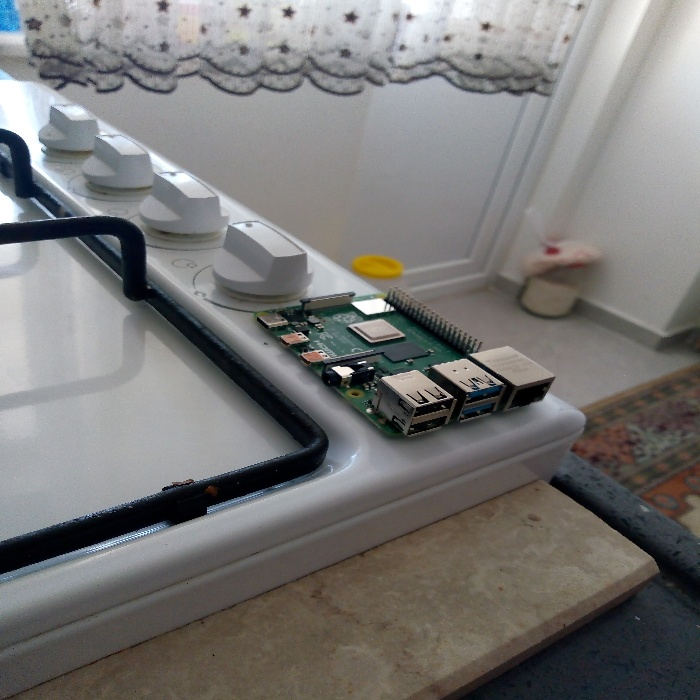raspberry: (246, 263, 562, 441)
